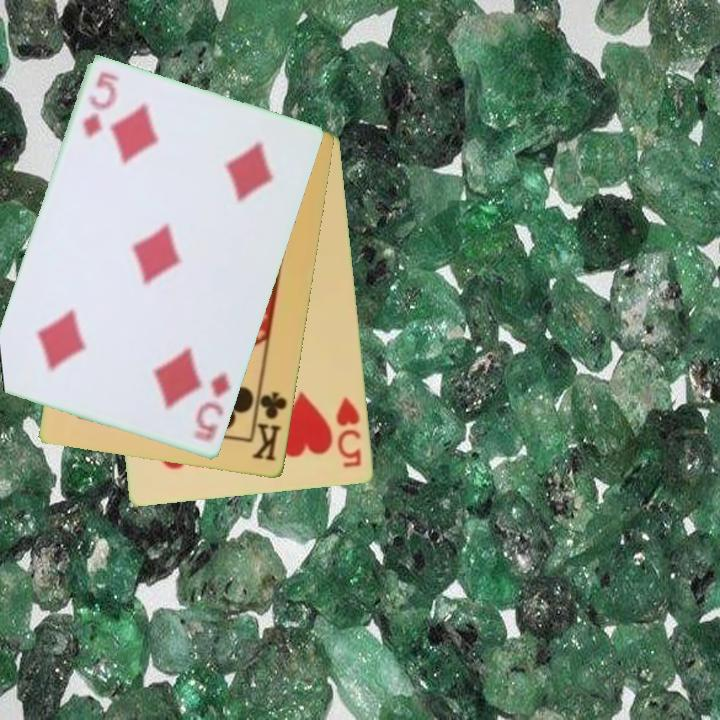5d: (191, 369, 234, 447), (80, 69, 122, 143)
5h: (333, 393, 365, 471)
Kc: (249, 382, 291, 465)
